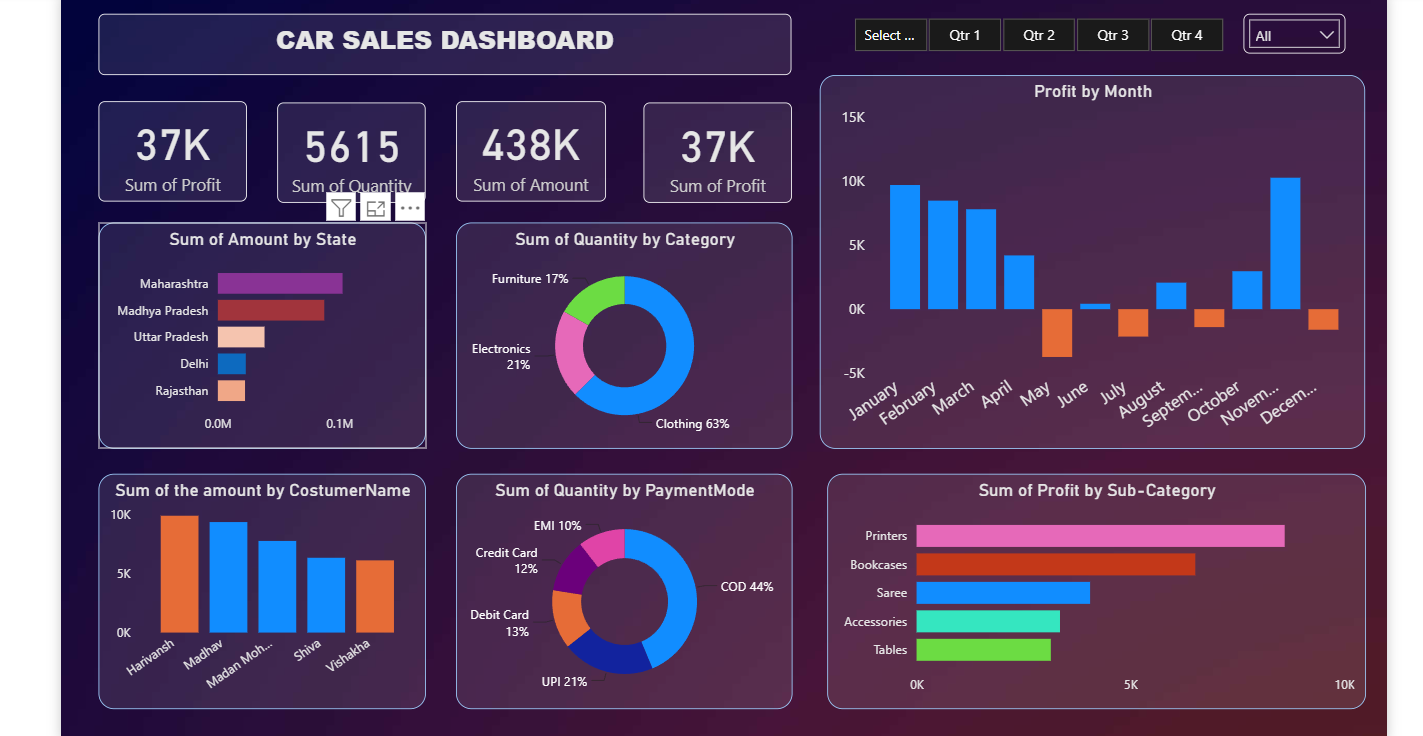

What the dashboard file says about the page in this screenshot:
{"tool":"powerbi","page":{"name":"Page 1","canvas":[1280,720],"ordinal":0},"visuals":[{"type":"columnChart","title":"Profit by Month","fields":{"Y":["Sum(Details.Profit)"],"Category":["Orders.Order Date.Variation.Date Hierarchy.Month"]},"box":[732.5,76.8,526.5,360.7],"z":0},{"type":"barChart","fields":{"Category":["Details.Sub-Category"],"Y":["Sum(Details.Profit)"]},"box":[739.2,462,519.9,227.1],"z":1000},{"type":"donutChart","fields":{"Category":["Details.Category"],"Y":["Sum(Details.Quantity)"]},"box":[380.7,219.3,325,218.2],"z":2000},{"type":"donutChart","fields":{"Category":["Details.PaymentMode"],"Y":["Sum(Details.Quantity)"]},"box":[380.7,462,325,227.1],"z":3000},{"type":"card","fields":{"Values":["Sum(Details.Profit)"]},"box":[36.7,102.4,143.6,96.8],"z":4000},{"type":"card","fields":{"Values":["Sum(Details.Quantity)"]},"box":[209.3,103.5,143.6,96.8],"z":5000},{"type":"card","fields":{"Values":["Sum(Details.Amount)"]},"box":[380.7,102.4,144.7,96.8],"z":6000},{"type":"card","fields":{"Values":["Sum(Details.Profit)"]},"box":[562.2,103.5,143.6,96.8],"z":7000},{"type":"barChart","fields":{"Category":["Orders.State"],"Y":["Sum(Details.Amount)"]},"box":[36.7,219.3,316.1,218.2],"z":8000},{"type":"columnChart","title":"Sum of the amount by CostumerName","fields":{"Category":["Orders.CustomerName"],"Y":["Sum(Details.Amount)"]},"box":[36.7,462,316.1,227.1],"z":9000},{"type":"textbox","box":[36.7,17.8,669,59],"z":10000},{"type":"slicer","fields":{"Values":["Orders.Order Date.Variation.Date Hierarchy.Quarter"]},"box":[746.2,10.3,394.9,55.1],"z":11000},{"type":"slicer","fields":{"Values":["Orders.Order Date.Variation.Date Hierarchy.Quarter"]},"box":[1141,17.9,98.7,38.5],"z":12000}]}

Visuals, with their boxes in screenshot pixels (x1, y1, x2, y2):
"Profit by Month" columnChart: {"left": 810, "top": 43, "right": 1382, "bottom": 434}
barChart - Details.Sub-Category x Sum(Details.Profit): {"left": 817, "top": 461, "right": 1382, "bottom": 707}
donutChart - Details.Category x Sum(Details.Quantity): {"left": 428, "top": 197, "right": 781, "bottom": 434}
donutChart - Details.PaymentMode x Sum(Details.Quantity): {"left": 428, "top": 461, "right": 781, "bottom": 707}
card - Sum(Details.Profit): {"left": 55, "top": 70, "right": 211, "bottom": 176}
card - Sum(Details.Quantity): {"left": 242, "top": 72, "right": 398, "bottom": 177}
card - Sum(Details.Amount): {"left": 428, "top": 70, "right": 585, "bottom": 176}
card - Sum(Details.Profit): {"left": 625, "top": 72, "right": 781, "bottom": 177}
barChart - Orders.State x Sum(Details.Amount): {"left": 55, "top": 197, "right": 398, "bottom": 434}
"Sum of the amount by CostumerName" columnChart: {"left": 55, "top": 461, "right": 398, "bottom": 707}
textbox: {"left": 55, "top": 0, "right": 781, "bottom": 43}
slicer - Orders.Order Date.Variation.Date Hierarchy.Quarter: {"left": 825, "top": 0, "right": 1254, "bottom": 30}
slicer - Orders.Order Date.Variation.Date Hierarchy.Quarter: {"left": 1254, "top": 0, "right": 1361, "bottom": 20}
